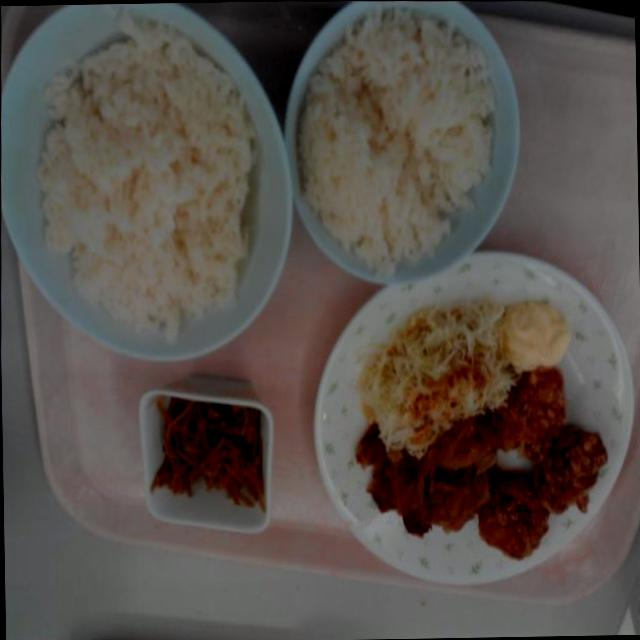Rice: (26, 21, 282, 336)
